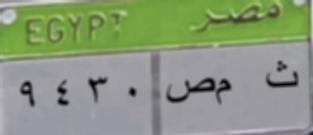0: (126, 85, 141, 102)
3: (85, 72, 110, 108)
4: (54, 78, 72, 110)
9: (18, 77, 38, 111)
meem: (216, 76, 233, 112)
saad: (164, 77, 215, 106)
thaa: (263, 60, 302, 92)
